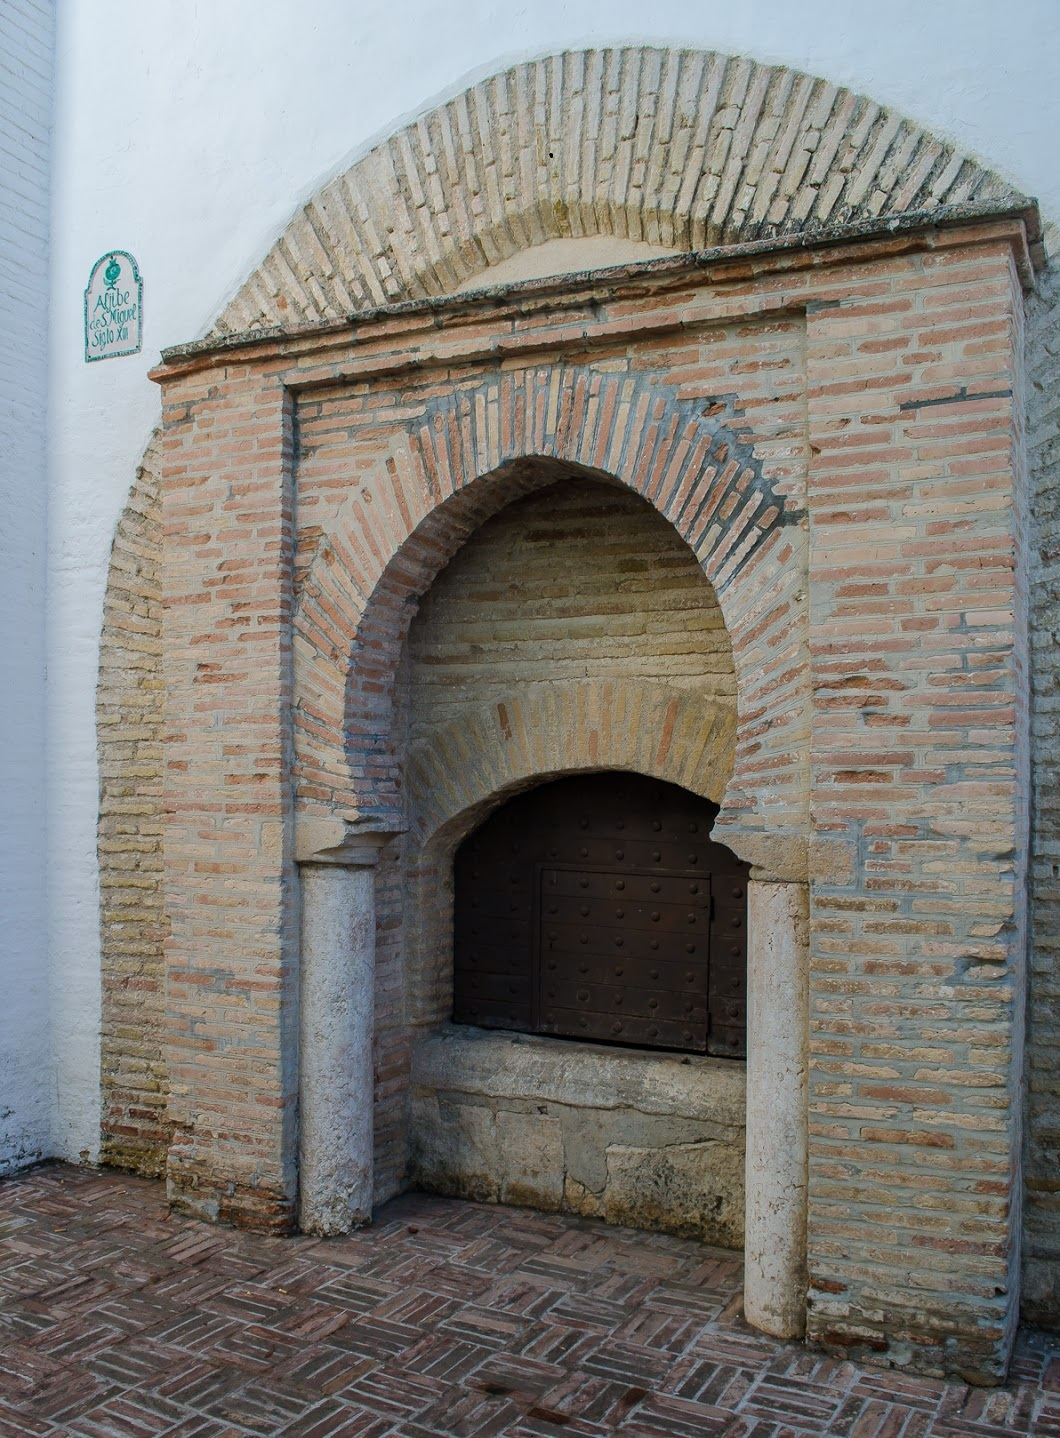arco-herradura: (332, 447, 772, 900)
